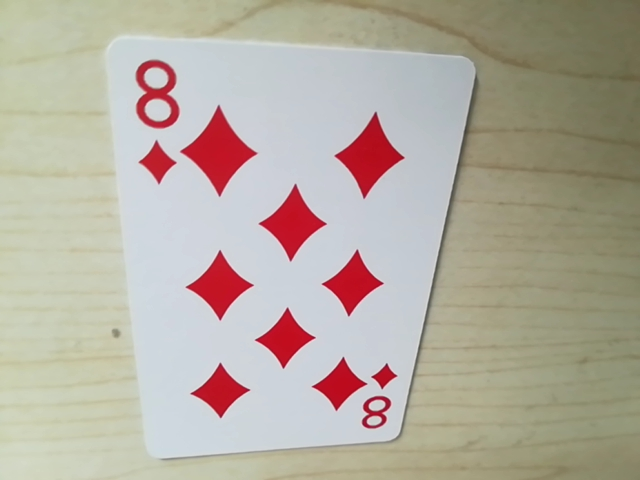fk 8: (121, 47, 188, 187), (352, 372, 401, 438)
